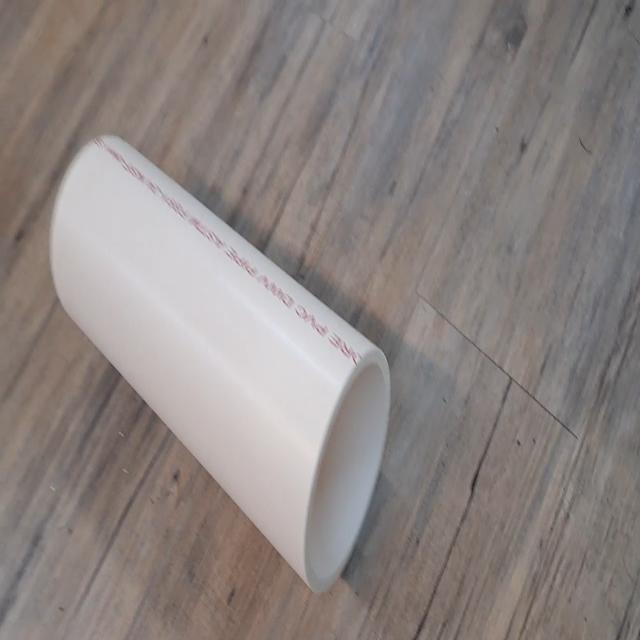CORAL: (42, 126, 396, 595)
